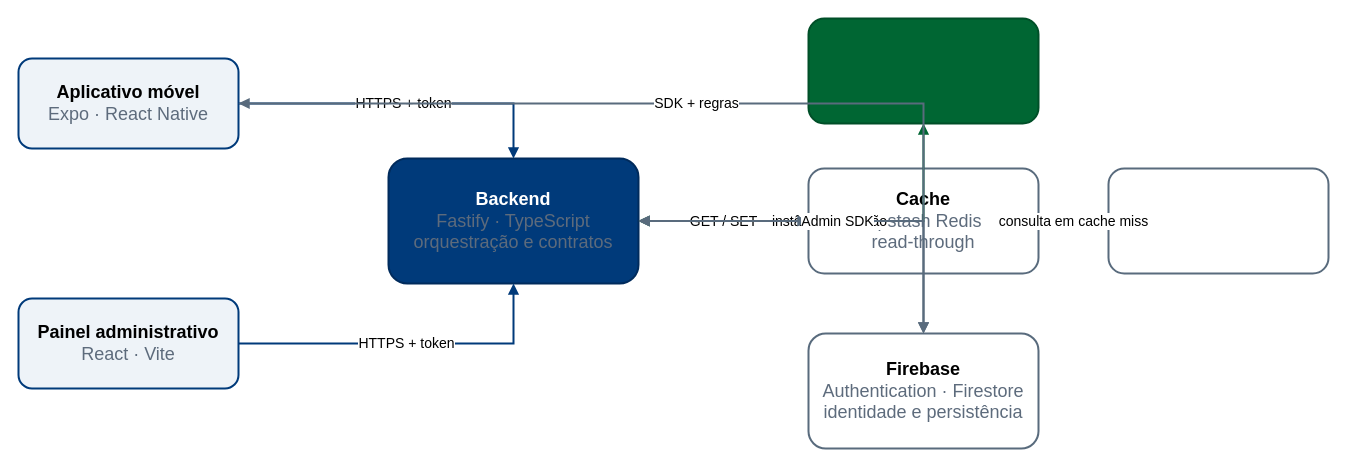
The diagram is 1346 pixels wide and 466 high, and some of its shapes have lost their labels. The shapes that lost their labels are listed below. From the top down, each one's centre as x and y in pixels, then its label:
the point at 923,70: Solver FastAPI · OR-Tools VRPTW
the point at 1218,220: Serviços externos Places · Routes · Gemini
